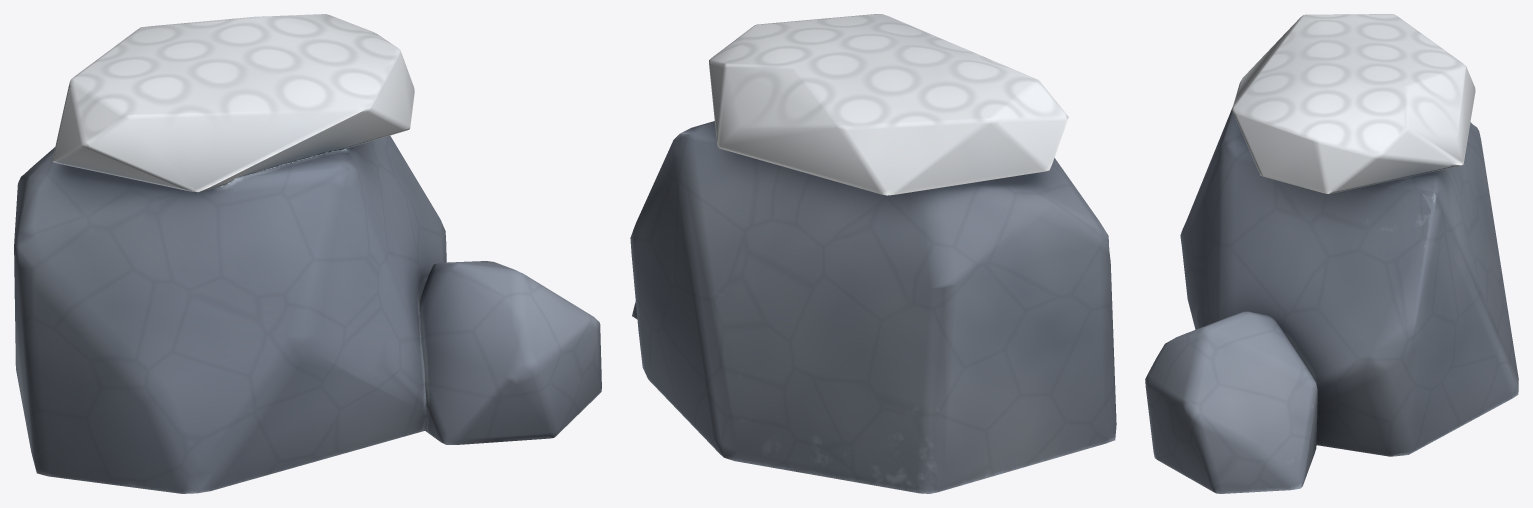
File: Glace_Rocher.fbx
3 renders of one model, left to right at view 1: azimuth 30°, elevation 25°; view 2: azimuth 150°, elevation 25°; view 3: azimuth 270°, elevation 25°, orthographic. The views are drawn at different scales.
Parts seen in each view (by area): view 1: Glace_Rocher; view 2: Glace_Rocher; view 3: Glace_Rocher.
Boxes of the visible parts, x1,y1,x2,y2 form: Glace_Rocher: (14,14,601,493); Glace_Rocher: (630,14,1116,493); Glace_Rocher: (1145,14,1518,493).
Bounding box in the file's own units: 932 × 612 × 672.
1 material, 1 textured.
